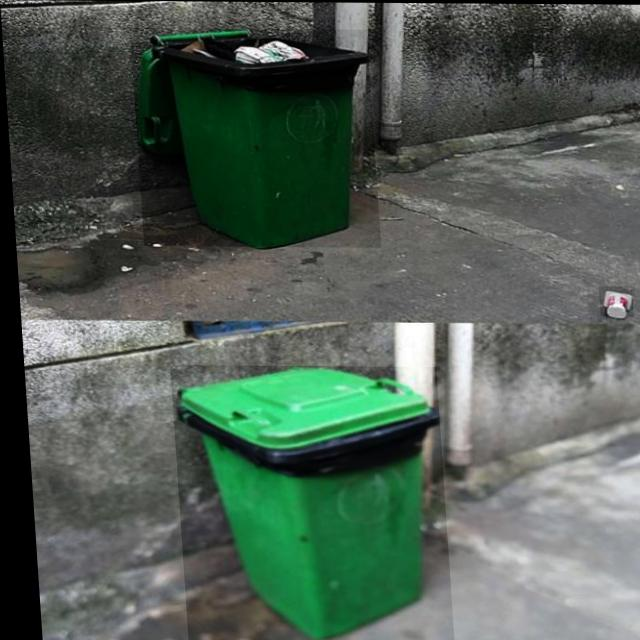garbage: (595, 286, 630, 316)
garbage_bin: (165, 365, 445, 640)
overflow: (129, 28, 378, 247)
